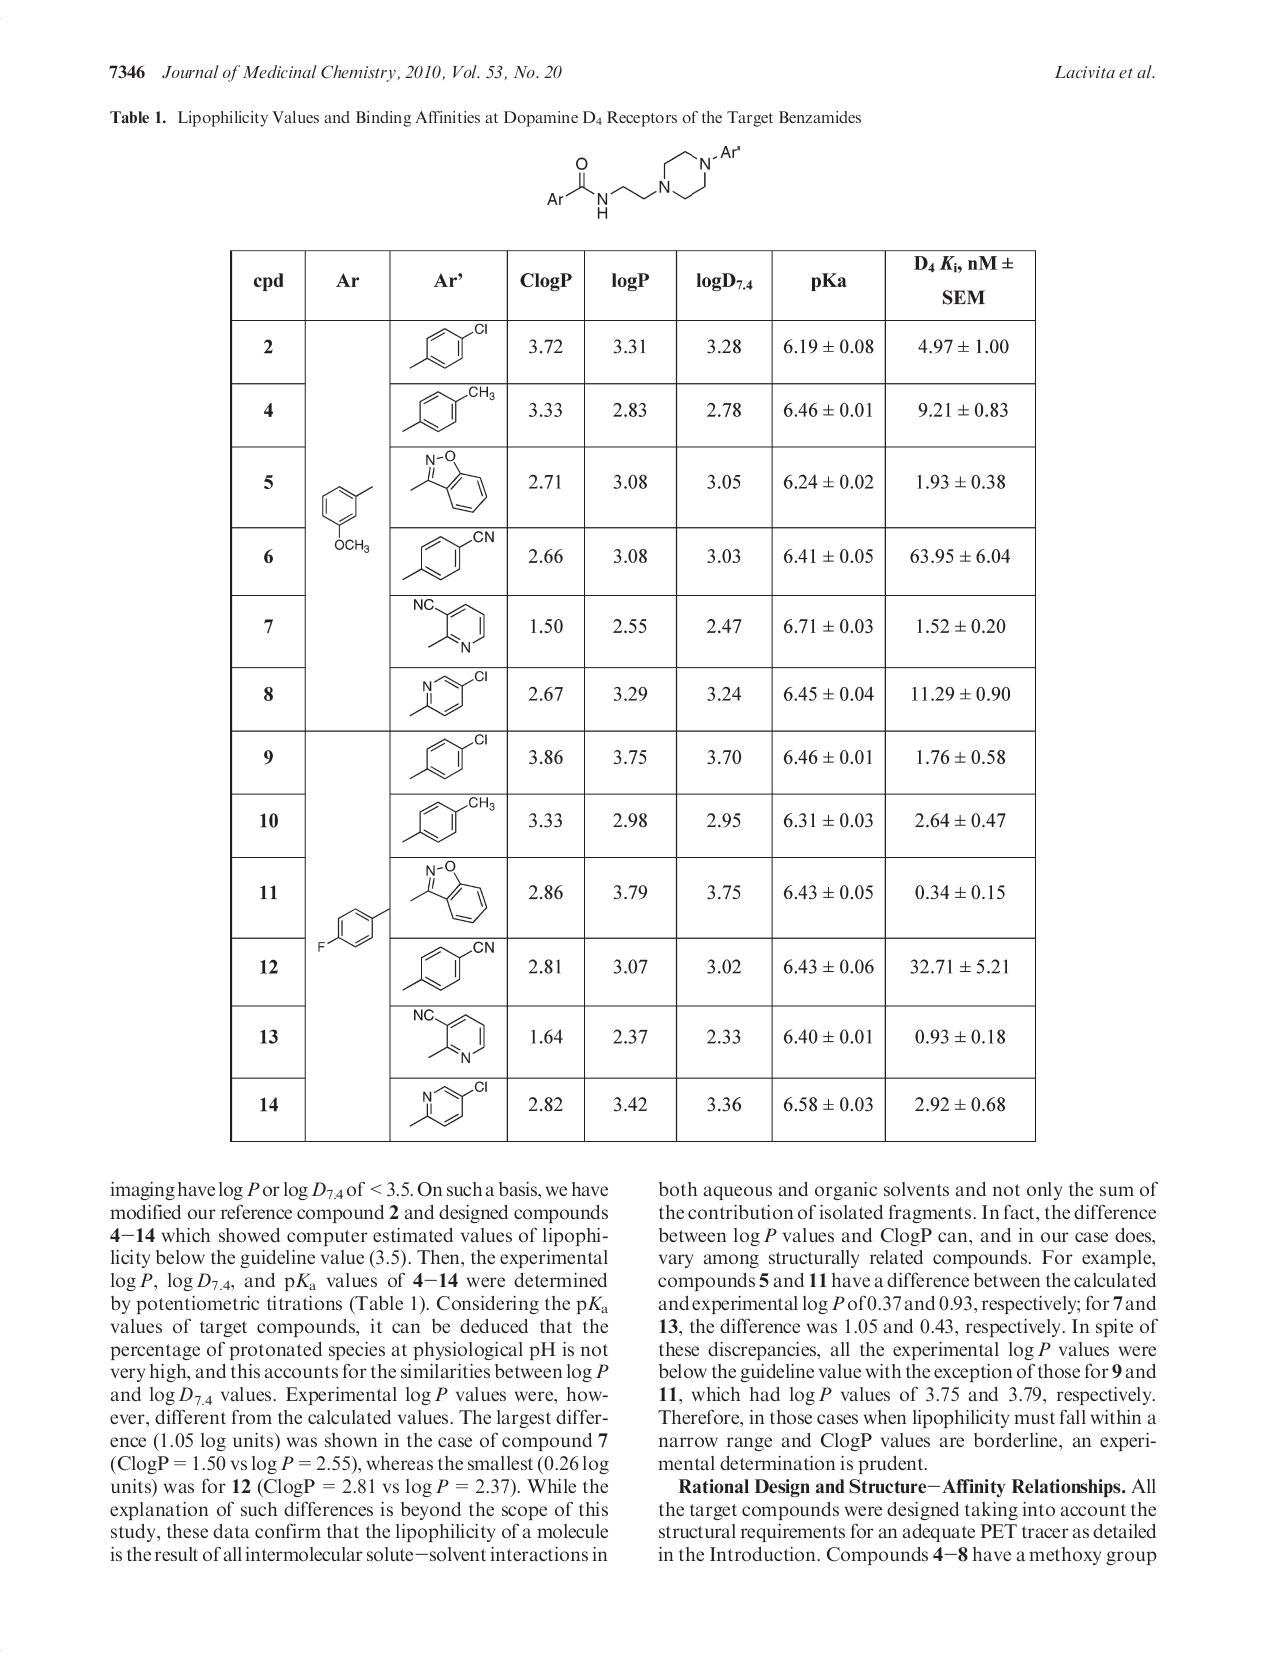exist_molecular: (547, 142, 743, 223), (410, 449, 488, 515), (402, 529, 497, 581), (410, 860, 488, 923), (400, 939, 495, 991), (402, 384, 497, 434), (411, 1007, 485, 1064), (410, 598, 485, 654), (403, 797, 496, 842), (408, 668, 489, 718), (408, 731, 488, 781), (406, 322, 489, 368), (410, 1079, 488, 1128), (320, 484, 375, 555), (315, 907, 390, 954)
